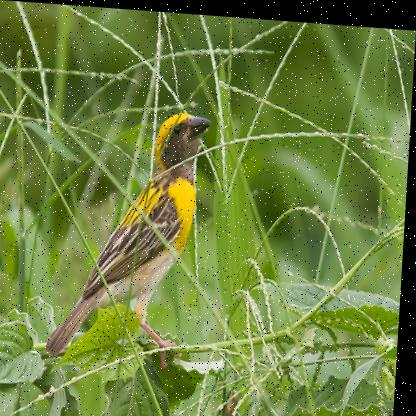Burung: (48, 102, 213, 363)
